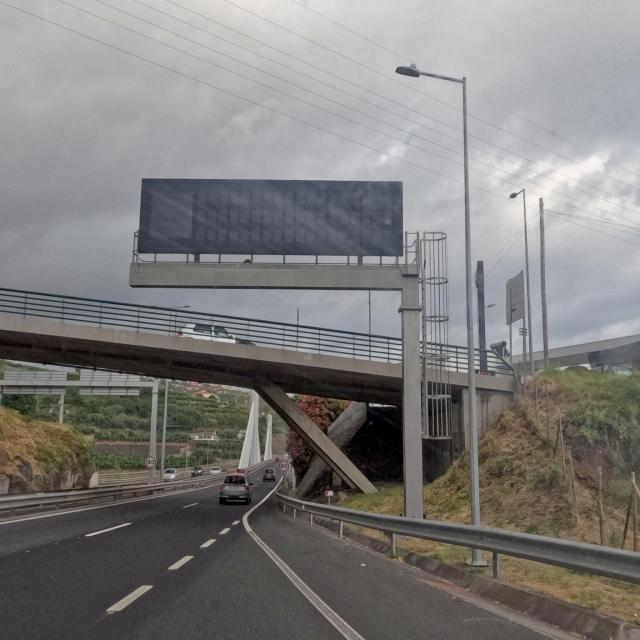car: (219, 474, 253, 504), (162, 468, 180, 481), (262, 468, 276, 482), (190, 465, 204, 476), (235, 468, 249, 476), (210, 465, 222, 474)
